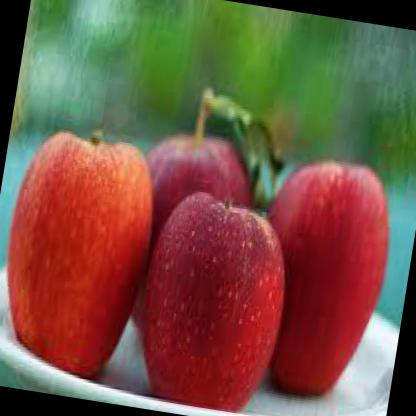apple: (237, 147, 403, 414), (1, 117, 169, 380), (129, 182, 301, 416)
